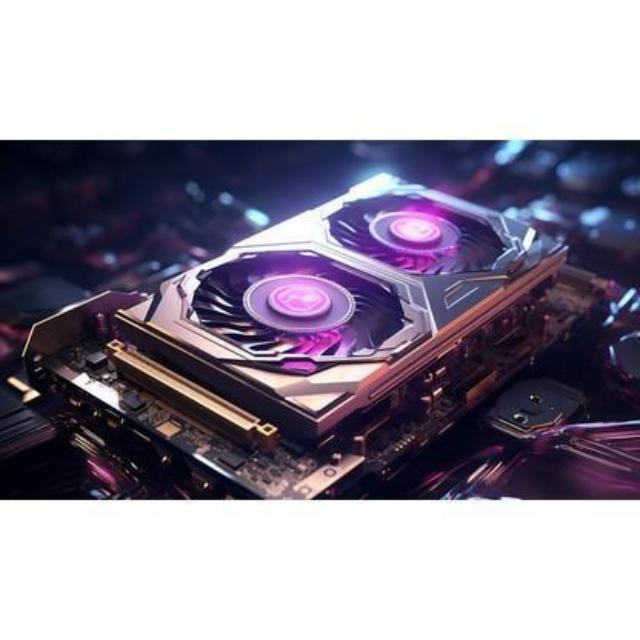GPU: (107, 166, 570, 443)
